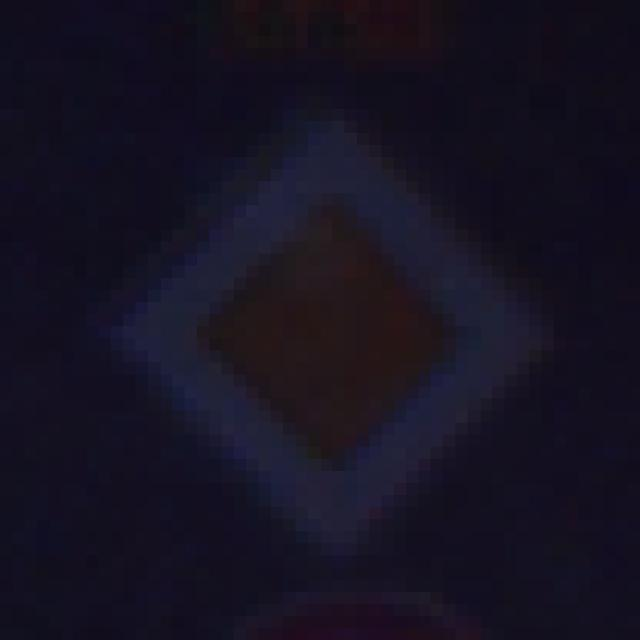Main Road: (75, 62, 579, 581)
